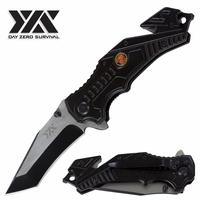knife: (2, 5, 193, 196)
